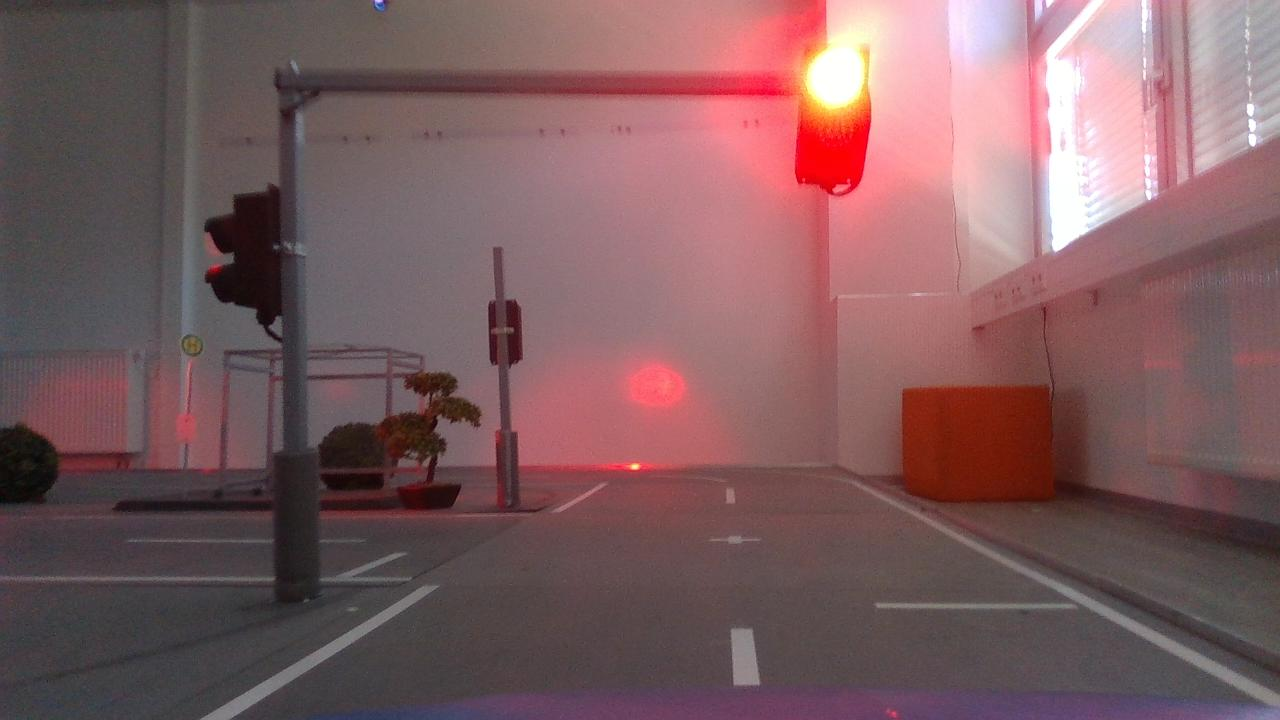traffic_light_red: (784, 31, 884, 206)
